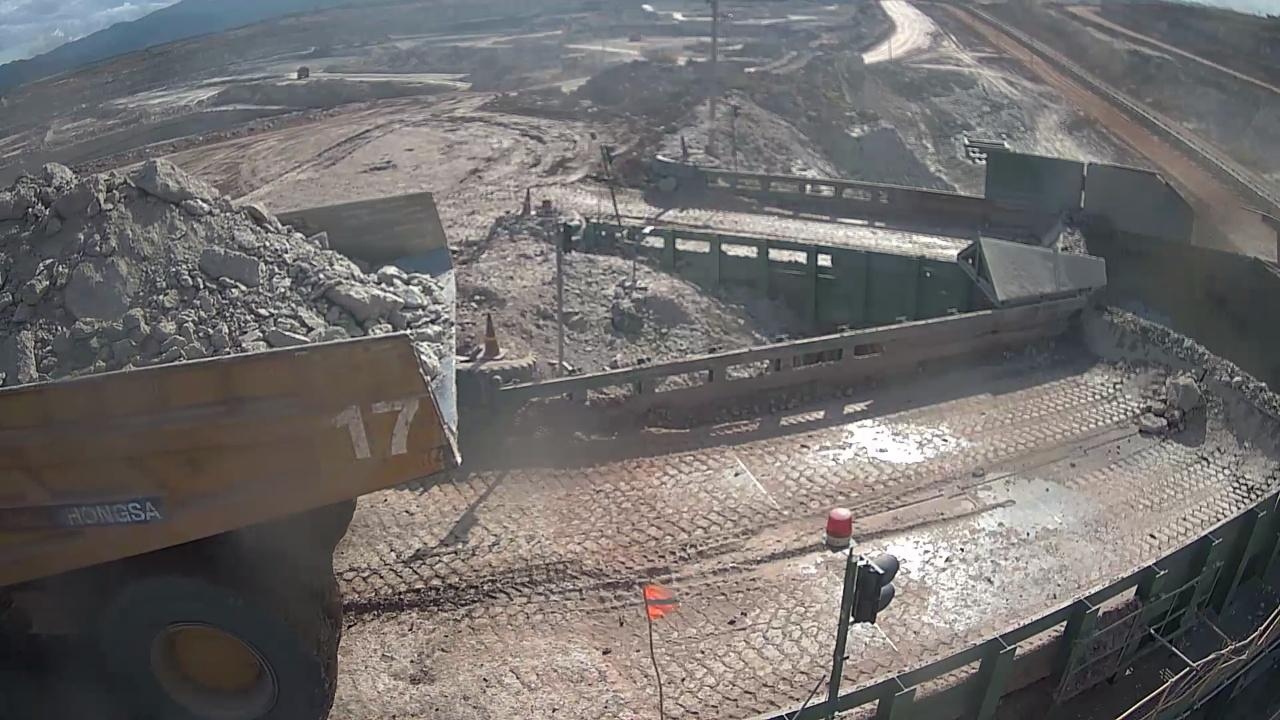full_load: (10, 158, 387, 354)
mining_truck: (1, 133, 477, 720)
tail_number: (322, 387, 432, 473)
